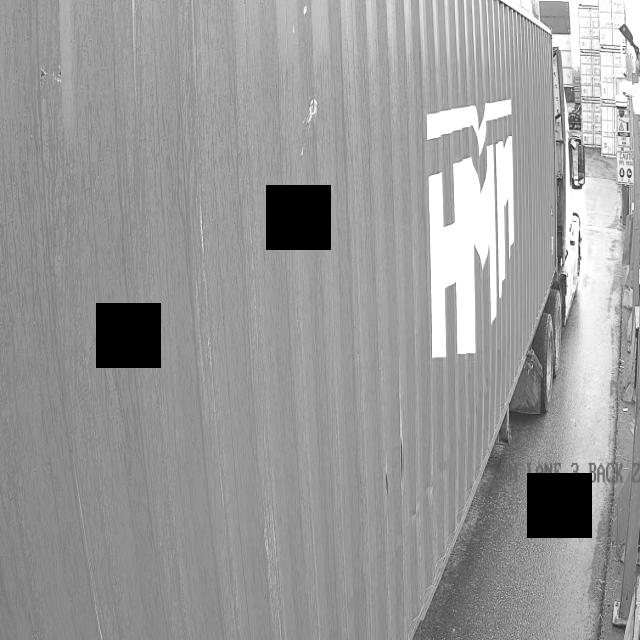container_company_logo: (389, 70, 569, 378)
truck_with_container: (0, 0, 571, 640)
